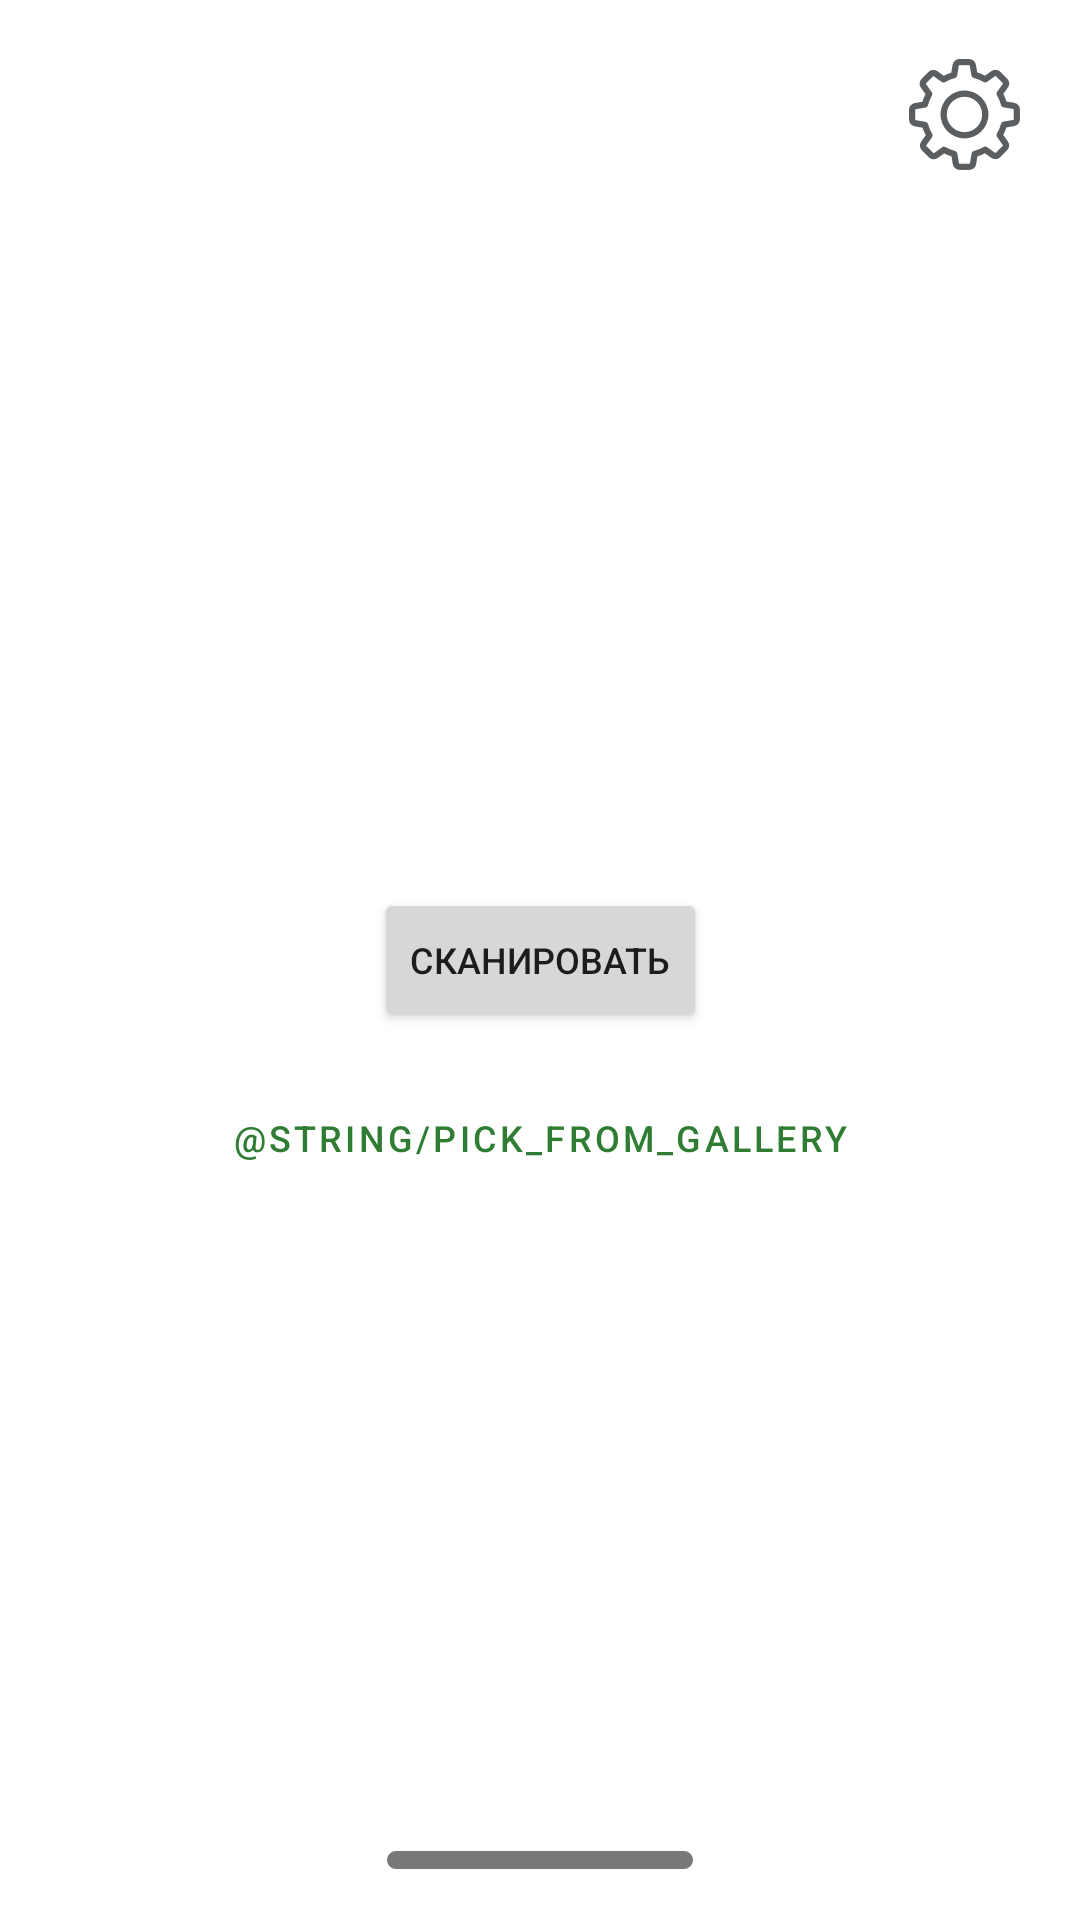

Where to tap for icons on this 1080 x 1920 app screen, as (x,y):
Settings: (964,114)
